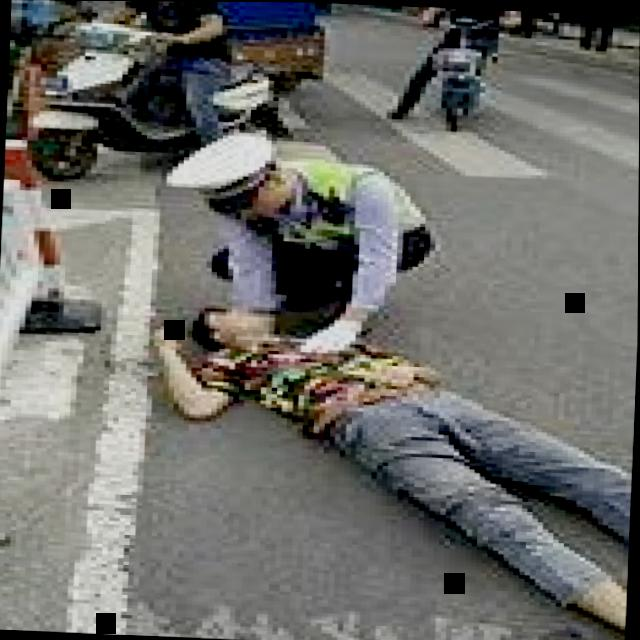Fall-Detected: (126, 281, 638, 640)
